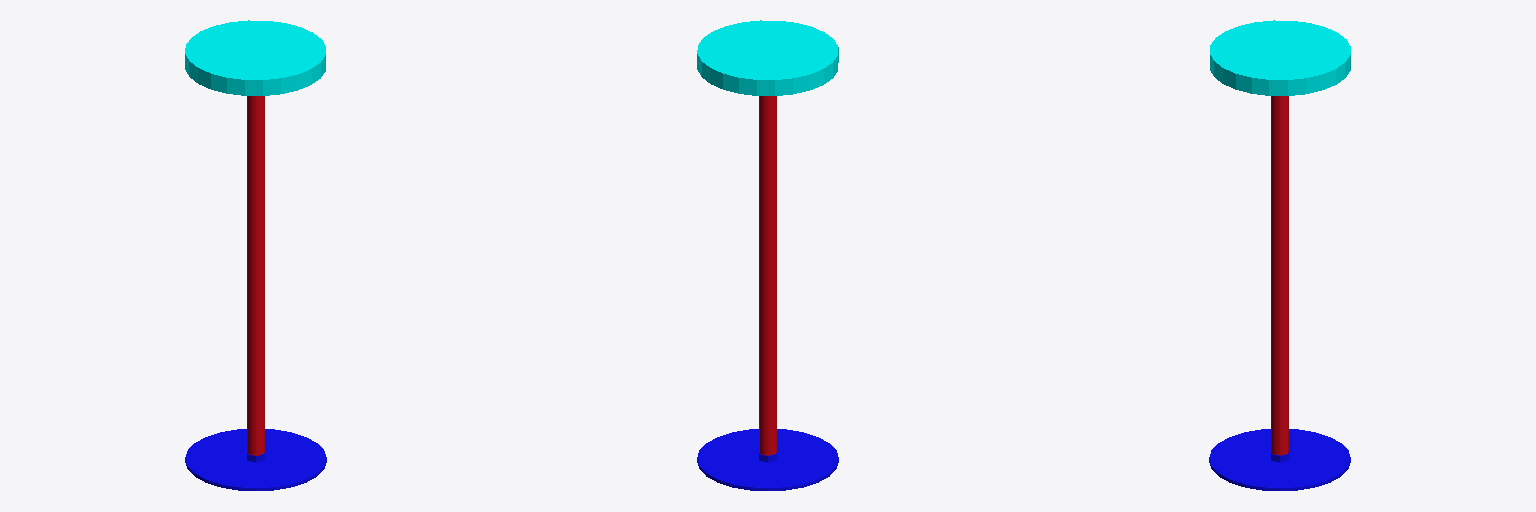
robot.urdf — octagon_signal:
<robot name="octagon_signal">
  <link name="octagon_signal">
    <inertial>
      <origin rpy="0 0 0" xyz="0 0 0"/>
      <mass value="10"/>
      <inertia ixx="0" ixy="0" ixz="0" iyy="0" iyz="0" izz="0"/>
    </inertial>
    <visual>
      <origin rpy="0 0 0" xyz="0 0 0"/>
      <geometry>
        <mesh filename="package://varun_gazebo/models/octagon_signal/meshes/octagon_signal.dae"/>
      </geometry>
    </visual>
    <collision>
      <origin rpy="0 0 0" xyz="0 0 0"/>
      <geometry>
        <mesh filename="package://varun_gazebo/models/octagon_signal/meshes/octagon_signal.dae"/>
      </geometry>
    </collision>
  </link>
</robot>

--- What the picture shows (computed from the rendered views, not written in the file) ---
The picture shows the robot from 3 angles, left to right: view 1: azimuth 30°, elevation 25°; view 2: azimuth 150°, elevation 25°; view 3: azimuth 270°, elevation 25°; orthographic projection.
Robot: octagon_signal — 1 links, 0 joints (none); root link octagon_signal; default pose: every joint at zero.
Links seen in each view (by area): view 1: octagon_signal; view 2: octagon_signal; view 3: octagon_signal.
Link boxes in pixels (bbox=[...]): octagon_signal: bbox=[185, 20, 326, 490]; octagon_signal: bbox=[697, 20, 838, 490]; octagon_signal: bbox=[1209, 20, 1350, 490].
Bounding box of the posed robot: 0.2 × 0.2 × 0.6392 m (x, y, z).
1 mesh visuals loaded from 1 distinct referenced files (1 Collada DAE).
